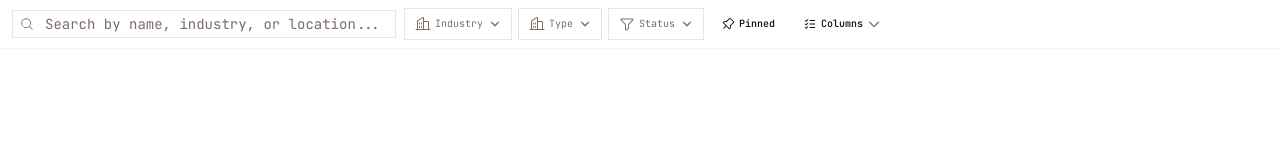
Test: CompaniesToolbar columns toggle › shows the Pinned option checked when the column is visible
What coordinates should you click on to do the following:
click the button "Columns"
I would click on:
 (842, 24)
Its box is [792,10,892,38].
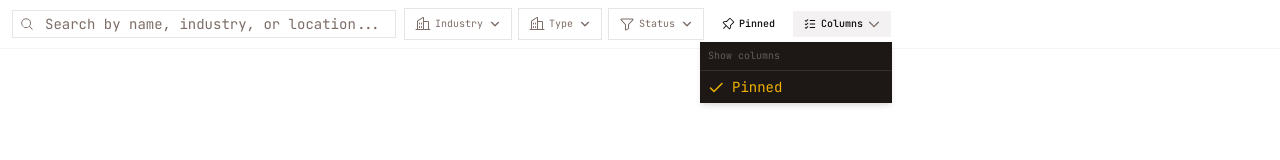
Now the menu item "Pinned" is shown, box [708,78,782,96]
